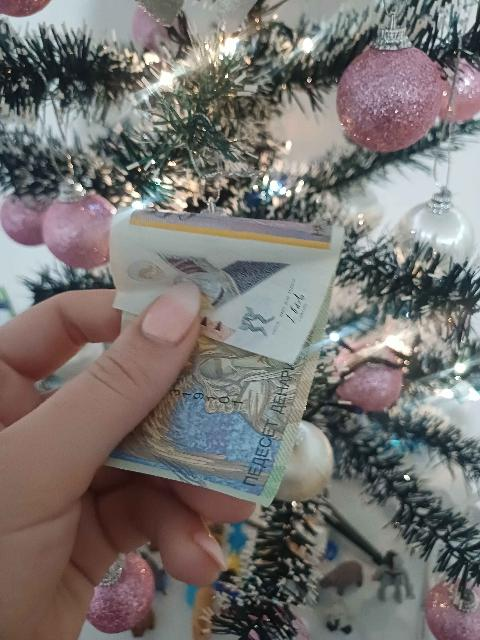50_note: (91, 193, 355, 507)
